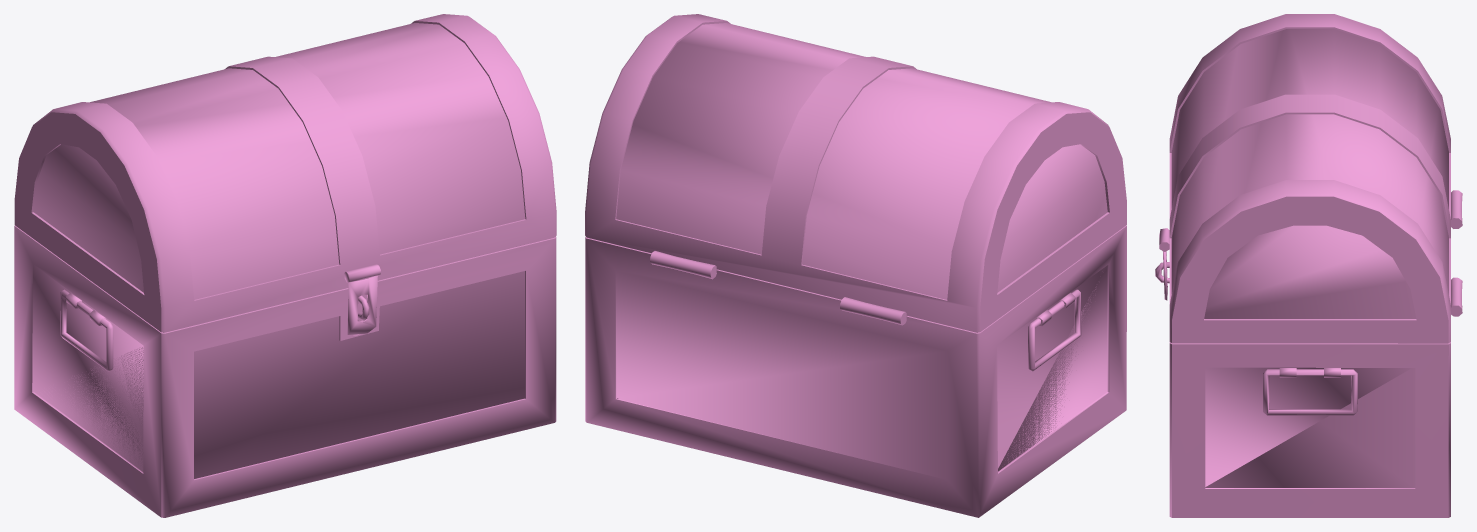
The model's file is chest.FBX.
The picture shows the model from 3 angles, left to right: view 1: azimuth 30°, elevation 25°; view 2: azimuth 150°, elevation 25°; view 3: azimuth 270°, elevation 25°; orthographic projection. The views are drawn at different scales.
Parts seen in each view (by area): view 1: wooden_chest_big; view 2: wooden_chest_big; view 3: wooden_chest_big.
Part boxes in pixels (x1,y1,x2,y2): wooden_chest_big: [14, 14, 556, 517]; wooden_chest_big: [585, 14, 1126, 517]; wooden_chest_big: [1155, 14, 1462, 517].
Size of the model in its own units: 67 by 53.97 by 46.46.
